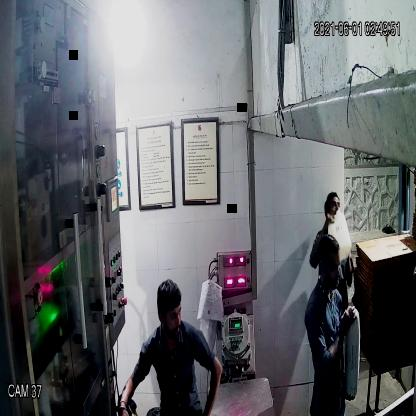no_goggles: (153, 302, 185, 323), (314, 256, 342, 278)
